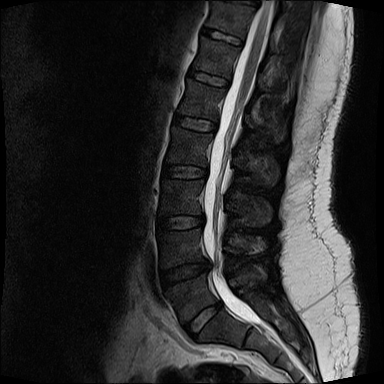Lumbar Disc Bulge (LDB): (179, 292, 227, 345), (156, 252, 214, 295), (152, 205, 210, 237)
Normal IVD: (181, 63, 233, 92), (157, 159, 210, 186), (195, 22, 246, 50), (168, 109, 220, 136)
Spinal Stenosis (SS): (191, 238, 224, 286), (207, 290, 234, 319), (189, 204, 214, 234)
